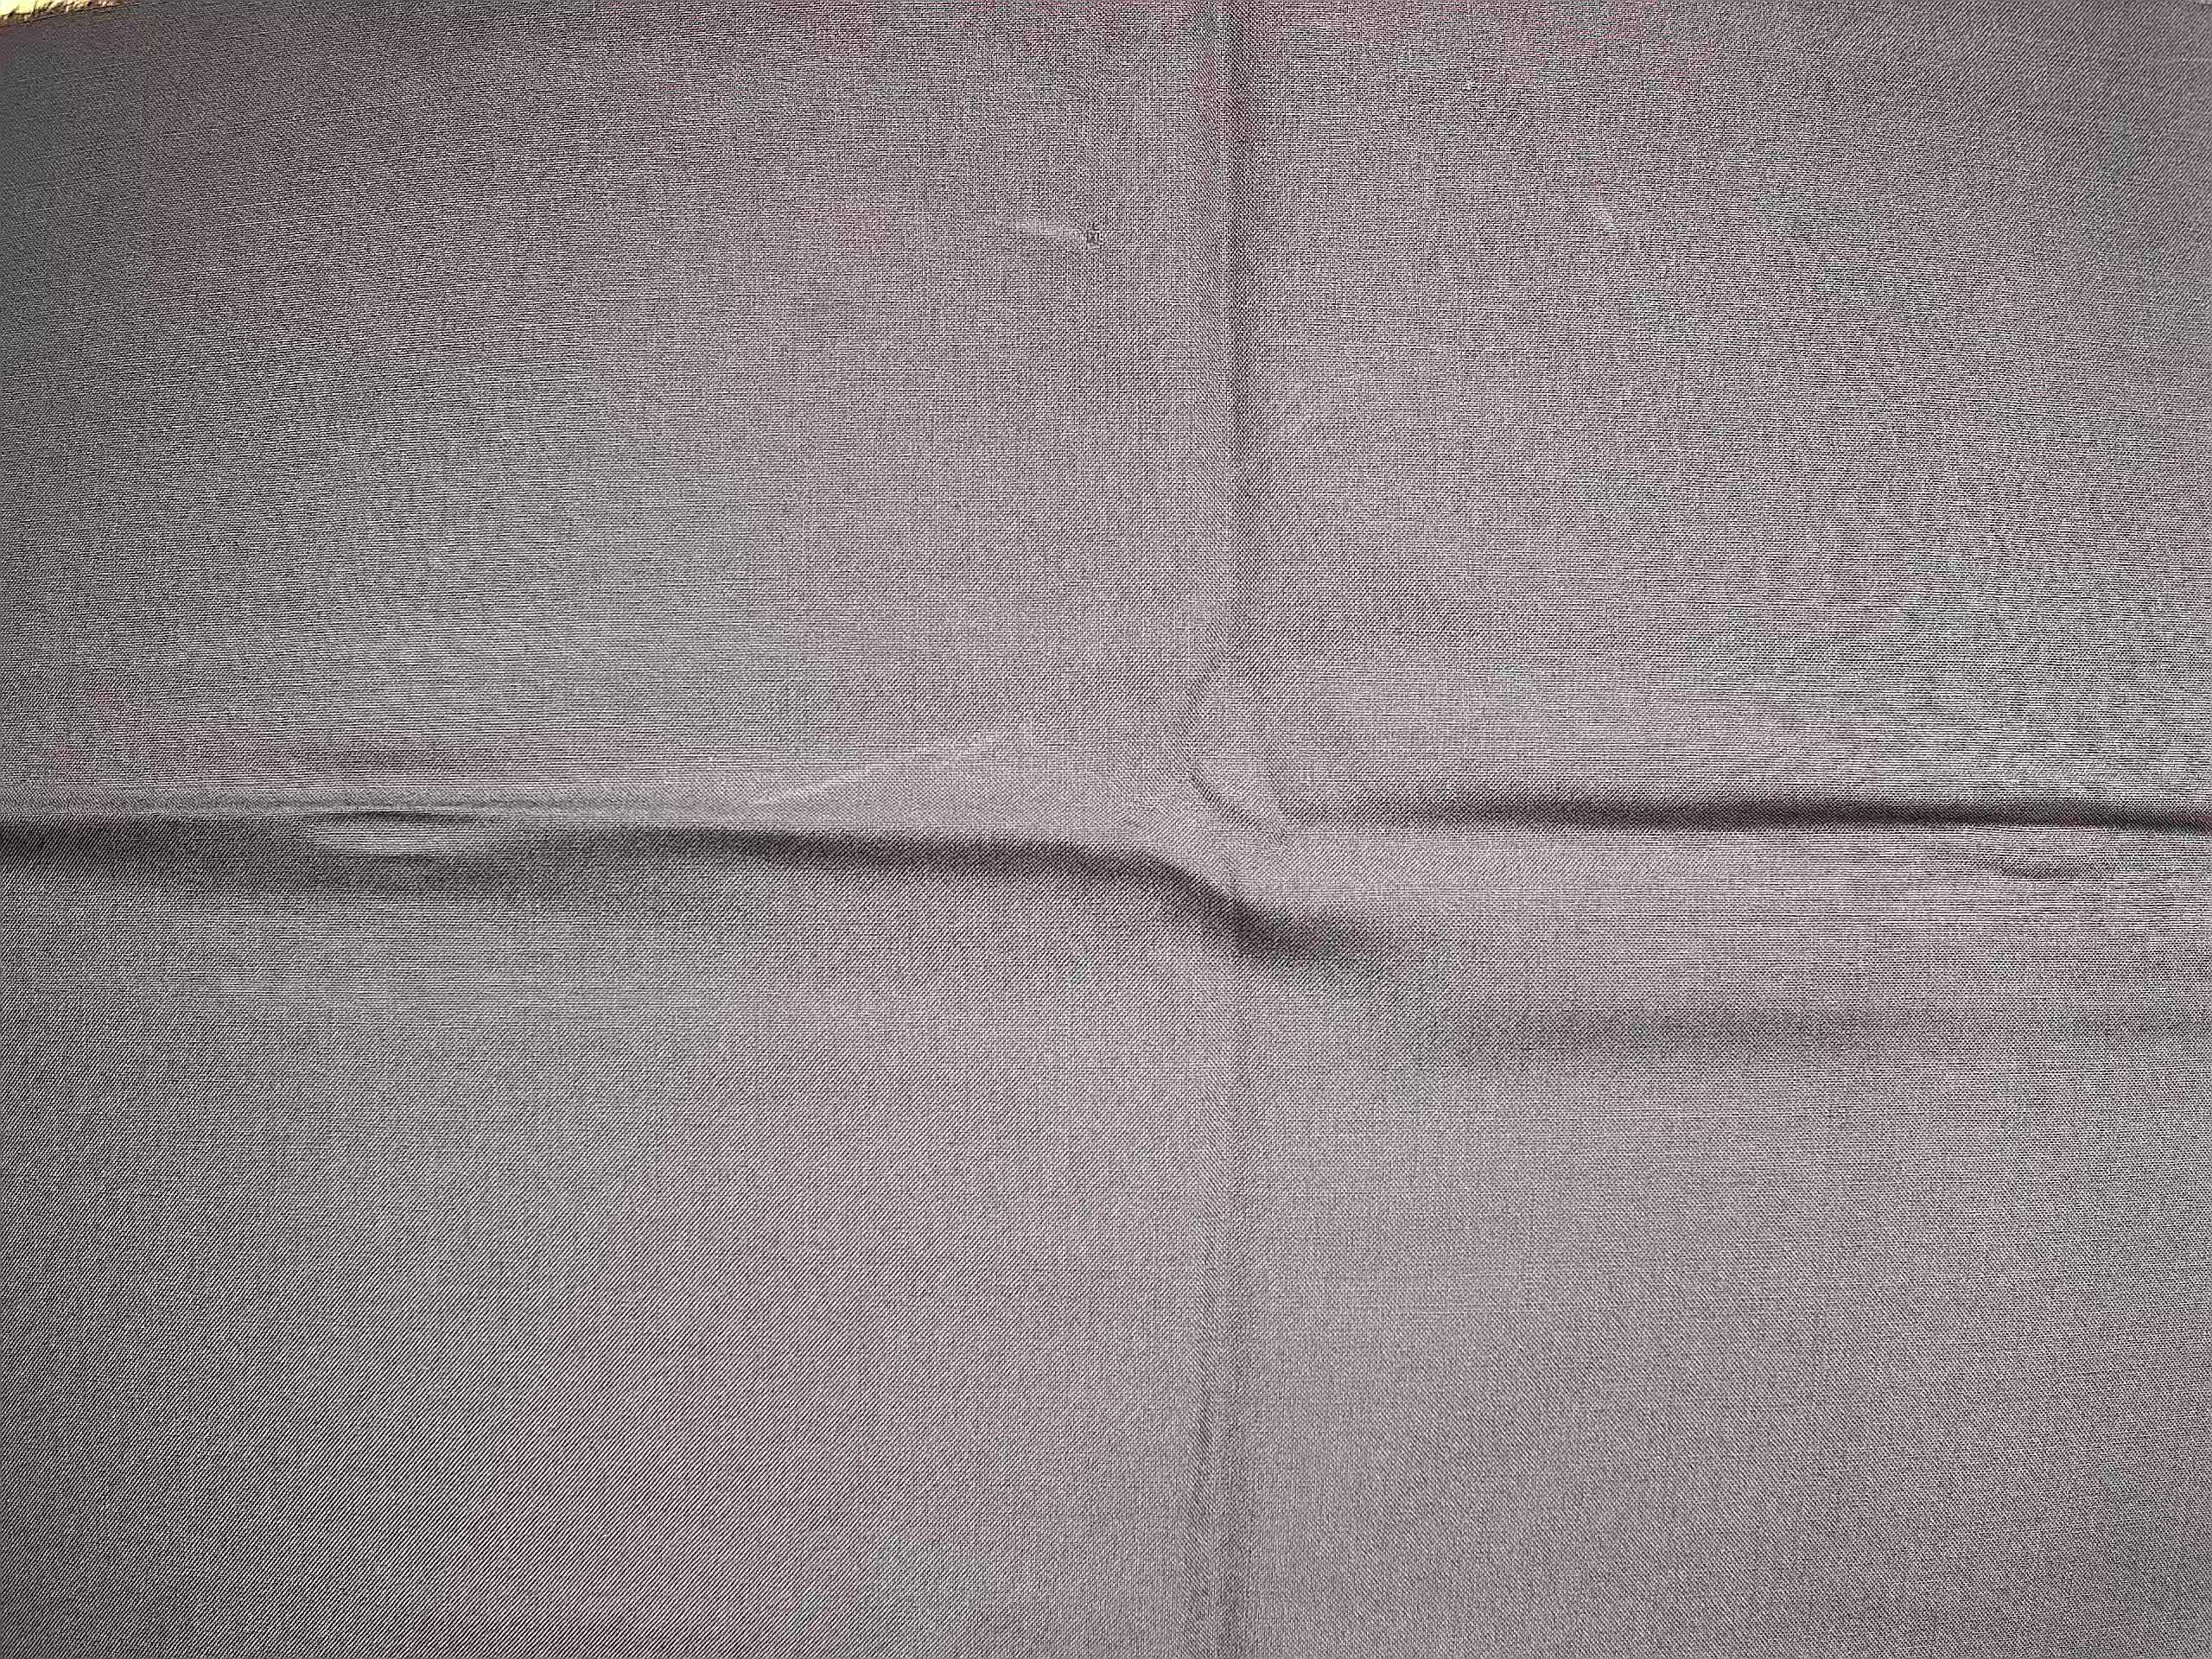rubbing-hole: (1066, 204, 1122, 261), (1580, 178, 1637, 232)
